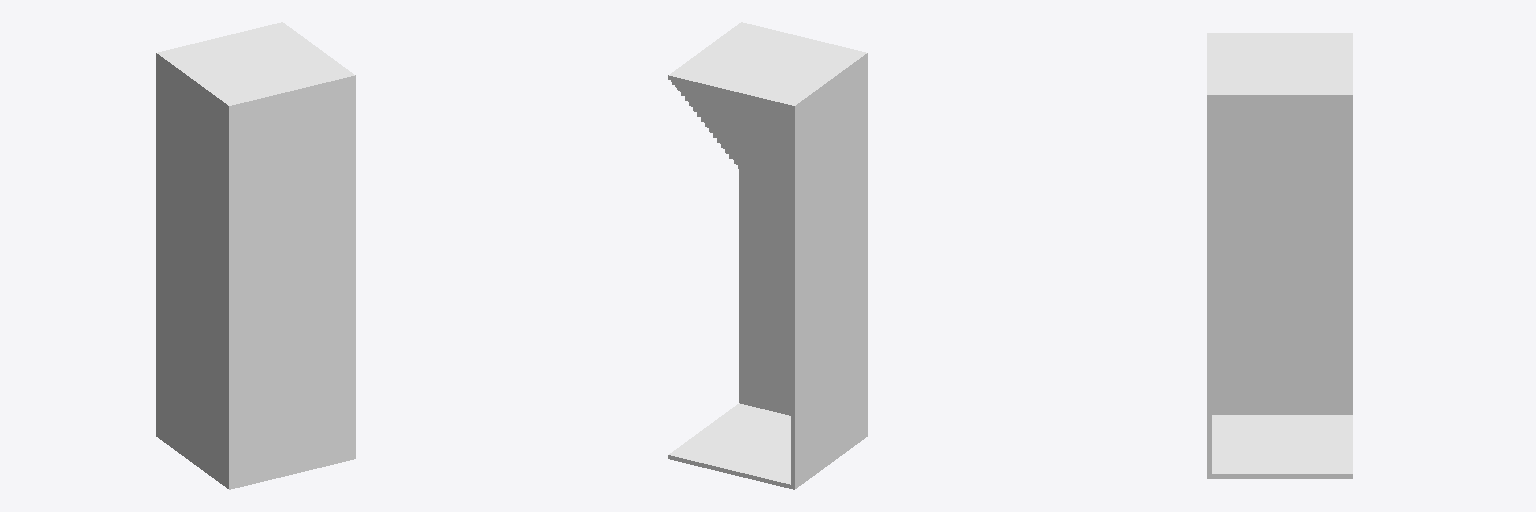
File: WallCorner2.obj
3 renders of one model, left to right at view 1: azimuth 30°, elevation 25°; view 2: azimuth 150°, elevation 25°; view 3: azimuth 270°, elevation 25°, orthographic.
Visible parts, largest first — view 1: object 1; view 2: object 1; view 3: object 1.
Boxes of the visible parts, x1=… form: object 1: x1=156, y1=22, x2=355, y2=489; object 1: x1=668, y1=22, x2=867, y2=489; object 1: x1=1207, y1=33, x2=1352, y2=478.
Size of the model in its own units: 3.1 by 9 by 3.1.